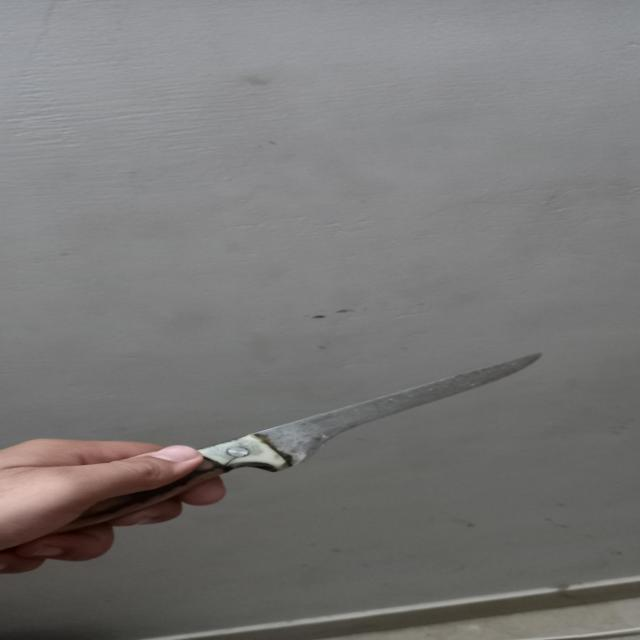weapon: (47, 351, 544, 536)
